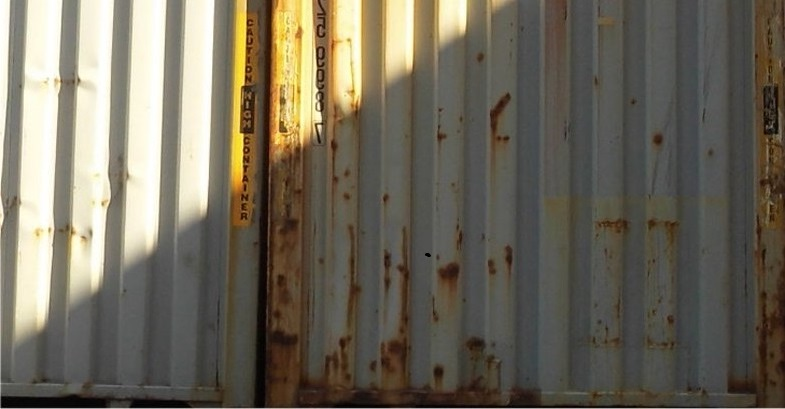container_no_door: (270, 3, 782, 398), (1, 1, 262, 407)
